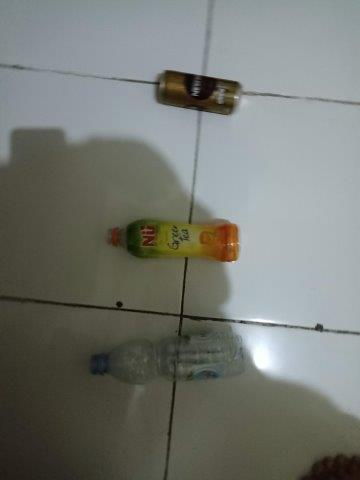botolplastik: (91, 334, 244, 384), (105, 219, 241, 262)
kaleng: (156, 70, 243, 115)
